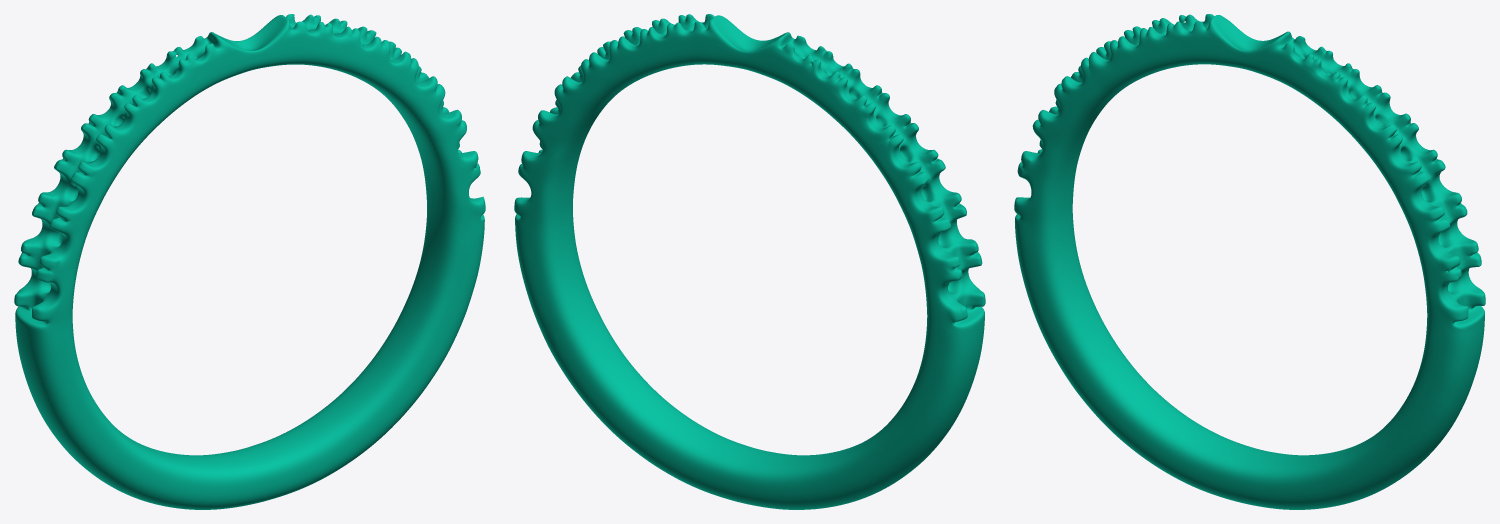
File: Shank_Pinch_U Prong_A_No, Hidden Halo_Band.glb
3 renders of one model, left to right at view 1: azimuth 30°, elevation 25°; view 2: azimuth 150°, elevation 25°; view 3: azimuth 330°, elevation 25°, orthographic.
Size of the model in its own units: 0.0213 by 0.0211 by 0.00245.
